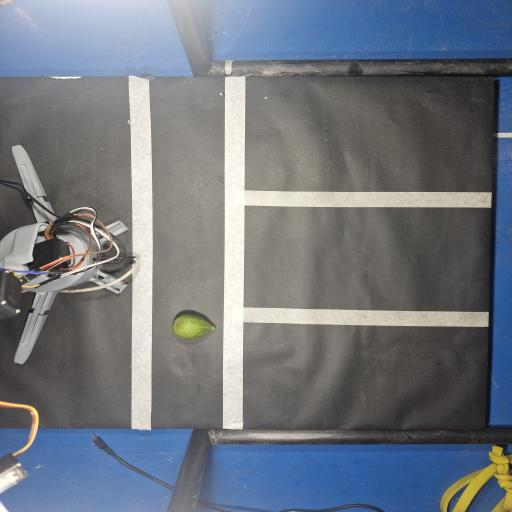higo: (172, 314, 215, 339)
